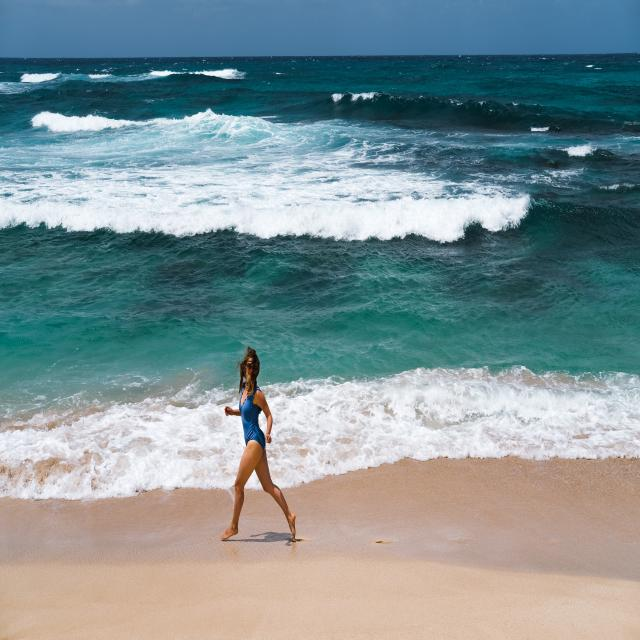running: (220, 346, 302, 544)
